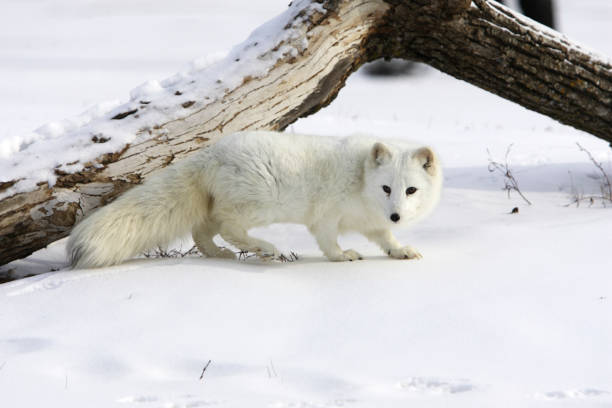arcticfox: (366, 156, 437, 244)
